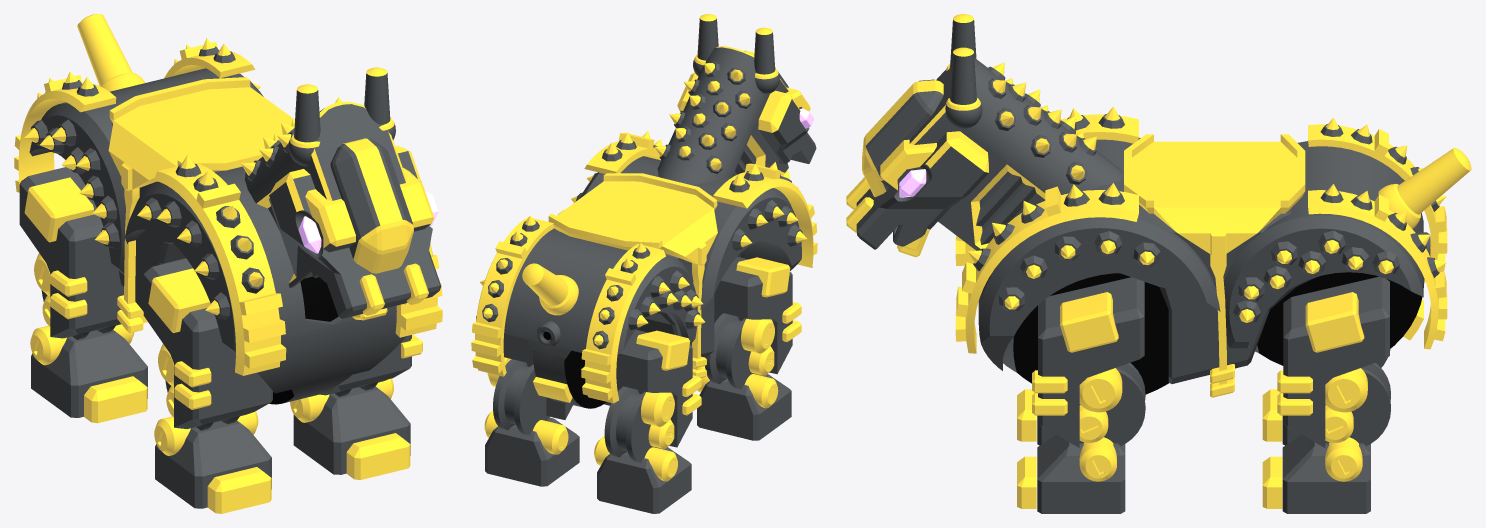
File: religious_mount.fbx
3 views of the same model, side by side, from view 1: azimuth 30°, elevation 25°; view 2: azimuth 150°, elevation 25°; view 3: azimuth 270°, elevation 25° (orthographic). The views are drawn at different scales.
Parts seen in each view (by area): view 1: pCube64 (×3), legs_base2, saddle, deets_head, shoulder_pad2, leg_front2, leg_rear2, head, pCube66 (×3), neck, legs_base1, deets_rear2 (+21 smaller); view 2: legs_base2, pCube64 (×3), saddle, pCylinder8 (×3), neck, legs_base1, leg_rear_pad2, leg_rear_pad1, leg_front2, leg_rear2, spikes_neck, head (+20 smaller); view 3: legs_base1, saddle, neck, pCube64 (×2), leg_rear1, leg_front1, head, mount, deets_head, shoulder_pad1, pCylinder8 (×2), spikes_rear_side1 (+20 smaller).
Boxes of the visible parts, x1,y1,x2,y2 form: pCube64 (×3): (31,330,410,508); legs_base2: (29,84,334,404); saddle: (108,77,294,323); deets_head: (305,138,434,315); shoulder_pad2: (154,162,286,375); leg_front2: (143,258,272,428); leg_rear2: (19,167,123,338); head: (269,146,441,318); pCube66 (×3): (84,376,410,513); neck: (244,101,406,287); legs_base1: (138,68,406,398); deets_rear2: (24,177,93,319); legs_base2: (548,178,801,408); pCube64 (×3): (485,374,791,513); saddle: (548,173,717,369); pCylinder8 (×3): (493,313,758,462); neck: (657,46,788,185); legs_base1: (504,156,661,403); leg_rear_pad2: (581,244,665,403); leg_rear_pad1: (471,217,553,376); leg_front2: (714,256,792,374); leg_rear2: (616,329,692,447); spikes_neck: (655,61,751,173); head: (677,72,816,164); legs_base1: (978,176,1424,394); saddle: (1124,134,1305,384); neck: (909,58,1123,250); pCube64 (×2): (1037,434,1370,513); leg_rear1: (1283,276,1389,447); leg_front1: (1038,277,1144,447); head: (856,131,988,249); mount: (1120,208,1315,383); deets_head: (846,79,943,233); shoulder_pad1: (955,186,1138,353); pCylinder8 (×2): (1079,363,1390,445); spikes_rear_side1: (1233,230,1400,324).
Size of the model in its own units: 4.25 by 7.52 by 9.92.
